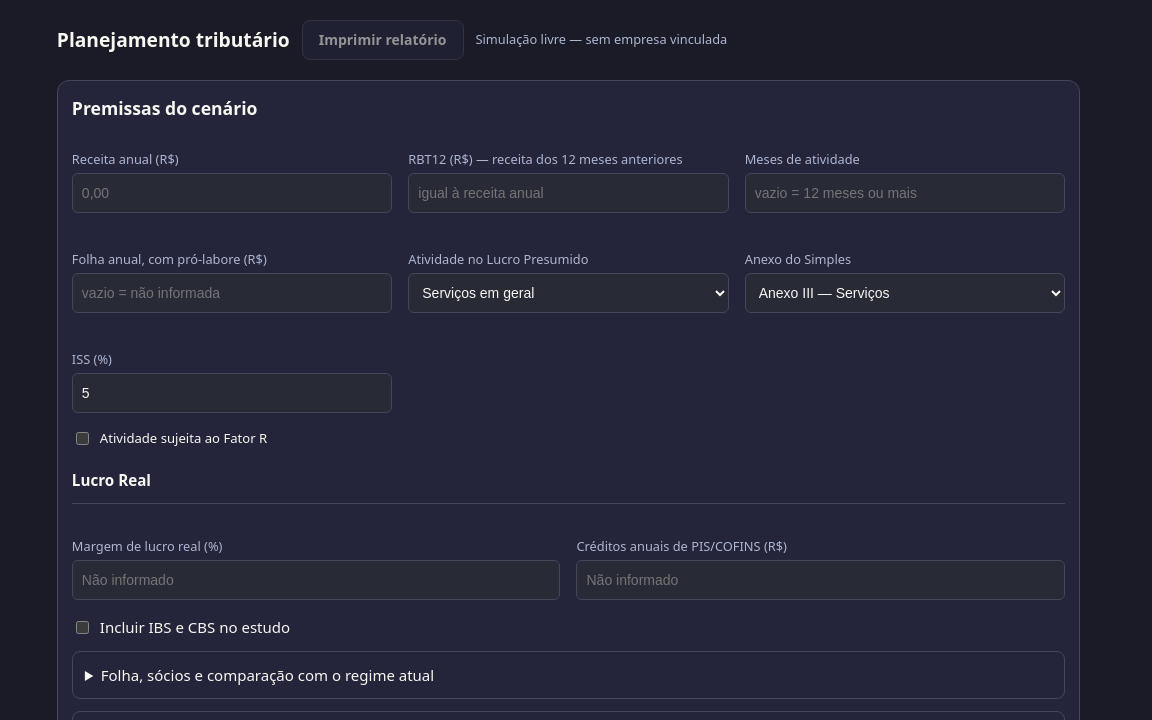
Test: ⚠⚠ ligar 'meses de atividade' LIMPA o RBT12, não só o esconde › o estado do campo fica vazio de verdade
The width and height of the screenshot is (1152, 720).
Type "88928609" into the field labelled "Receita anual (R$)" at (232,193), box [72,173,392,213]
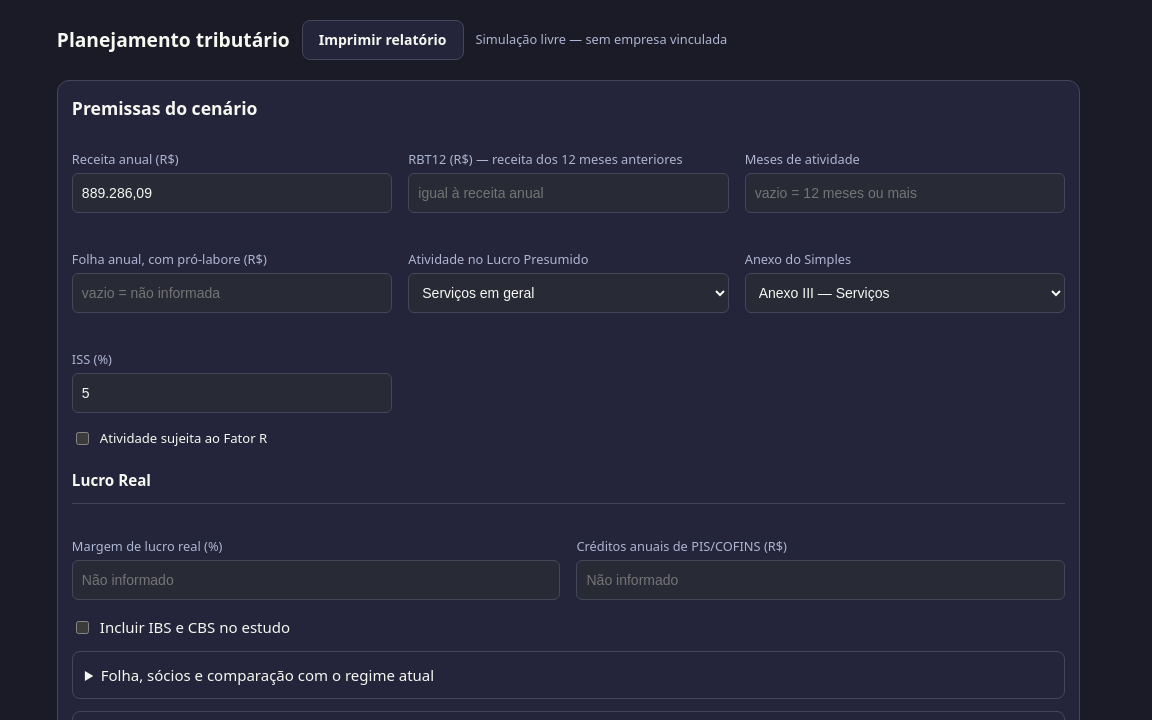
Type "71803609" into the field labelled "RBT12 (R$) — receita dos 12 meses anteriores" at (568,193), box [408,173,729,213]
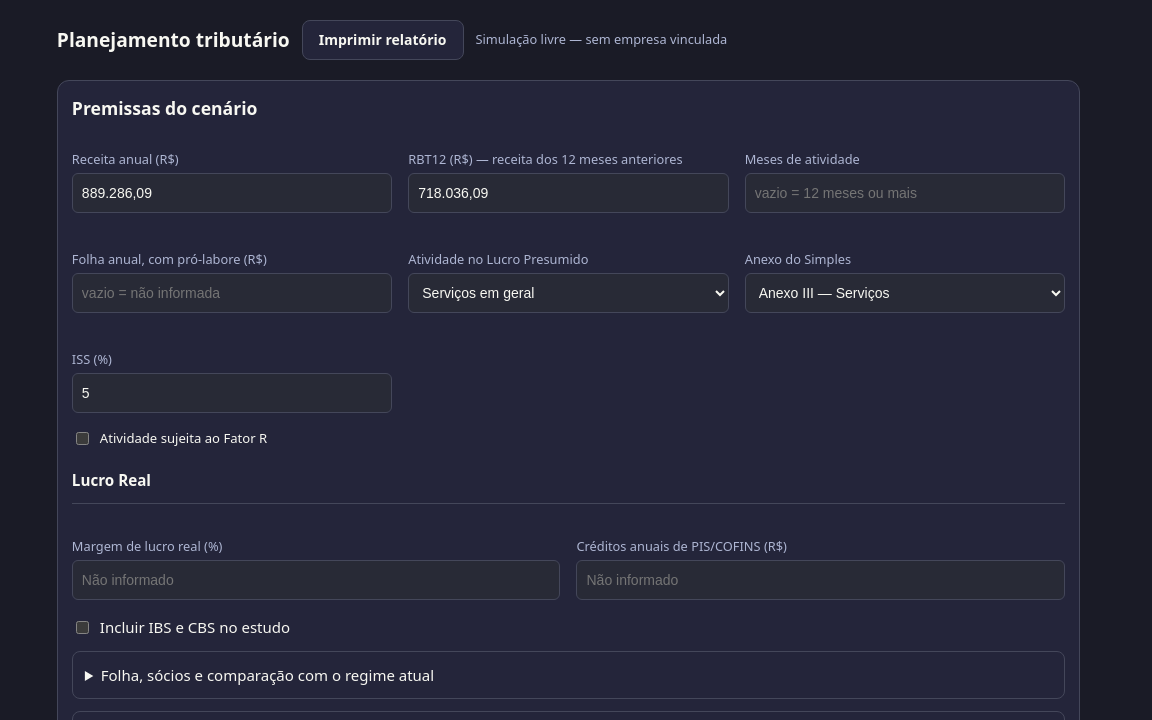
expect the field labelled "RBT12 (R$) — receita dos 12 meses anteriores" holds "718.036,09": met, box [408,173,729,213]
Type "6" into the field labelled "Meses de atividade" at (905,193), box [745,173,1065,213]
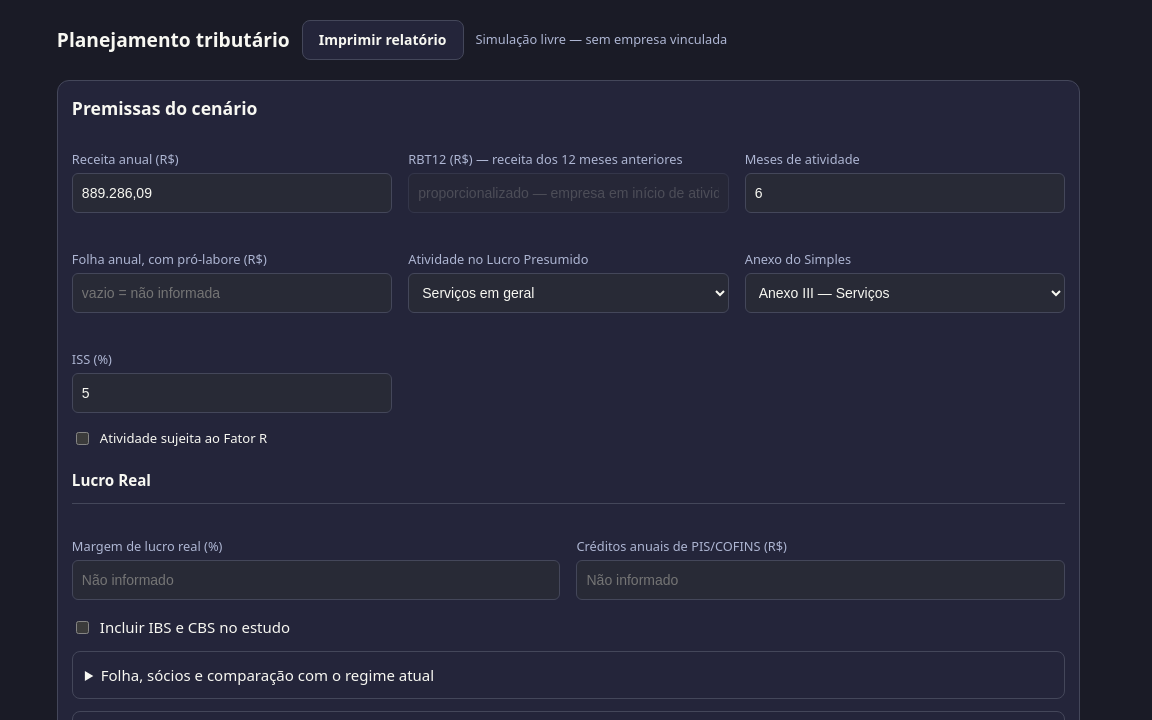
expect the field labelled "RBT12 (R$) — receita dos 12 meses anteriores" is empty: met, box [408,173,729,213]
expect the field labelled "RBT12 (R$) — receita dos 12 meses anteriores" is disabled: met, box [408,173,729,213]
